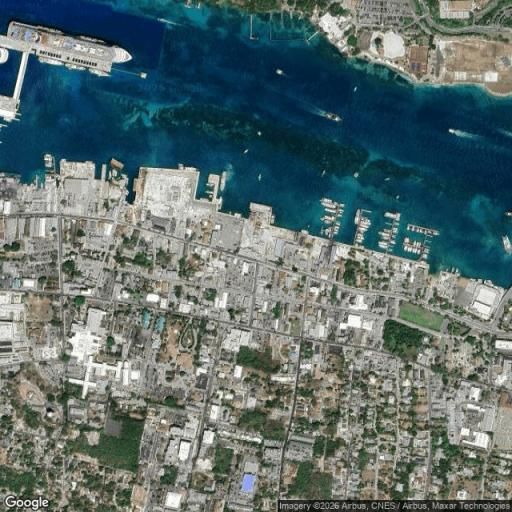ship: (6, 21, 134, 64), (327, 112, 342, 122), (504, 237, 511, 254)
